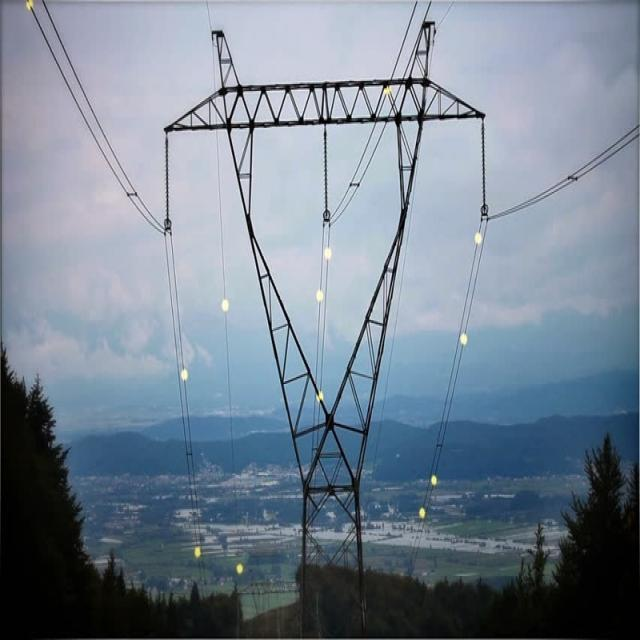non-critical vegetation: (170, 28, 480, 564)
